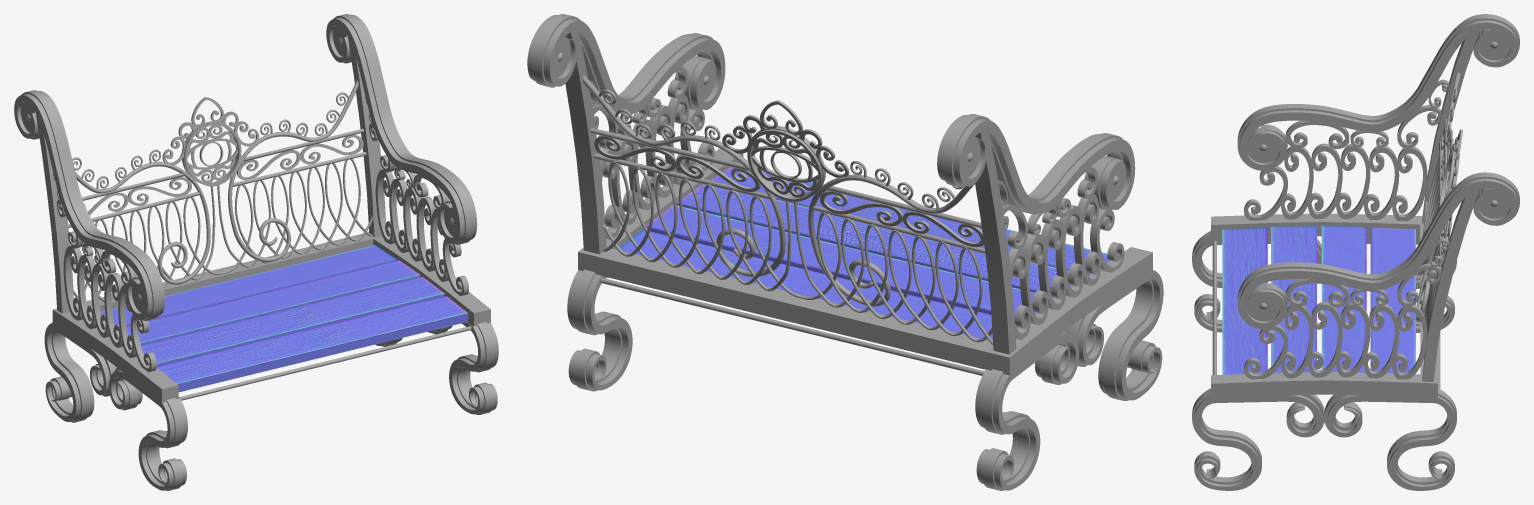
File: Bench.fbx
3 renders of one model, left to right at view 1: azimuth 30°, elevation 25°; view 2: azimuth 150°, elevation 25°; view 3: azimuth 270°, elevation 25°, orthographic. The views are drawn at different scales.
Parts seen in each view (by area): view 1: Bench; view 2: Bench; view 3: Bench.
Boxes of the visible parts, box(x1,y1,x2,y2) form: Bench: box(14, 14, 498, 490); Bench: box(527, 14, 1163, 490); Bench: box(1192, 14, 1519, 490).
Bounding box in the file's own units: 136 × 119 × 113.
